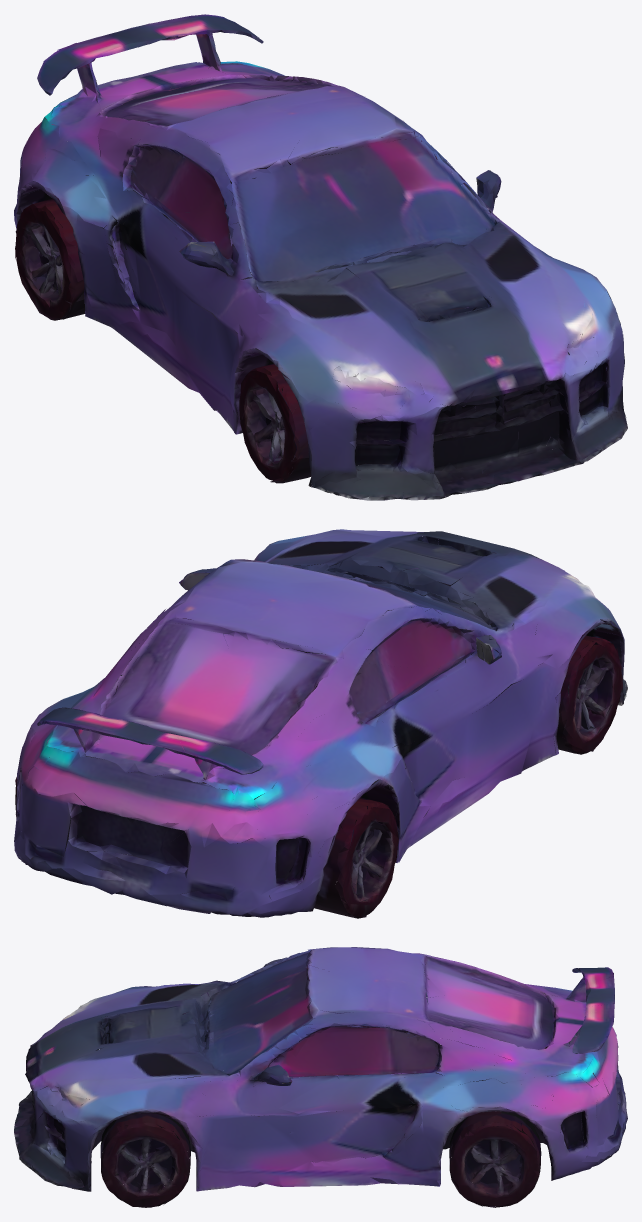
Rendered from v8supercar_armor.glb.
3 renders of one model, top to bottom at view 1: azimuth 30°, elevation 25°; view 2: azimuth 150°, elevation 25°; view 3: azimuth 270°, elevation 25°, orthographic. The views are drawn at different scales.
Parts seen in each view (by area): view 1: Armor_V8_Supercar; view 2: Armor_V8_Supercar; view 3: Armor_V8_Supercar.
Boxes of the visible parts, bbox=[...] form: Armor_V8_Supercar: bbox=[14, 14, 627, 500]; Armor_V8_Supercar: bbox=[14, 529, 627, 918]; Armor_V8_Supercar: bbox=[14, 947, 627, 1207].
Size of the model in its own units: 0.5861 by 0.3712 by 1.2.
Materials: 1 (1 with a texture image).
